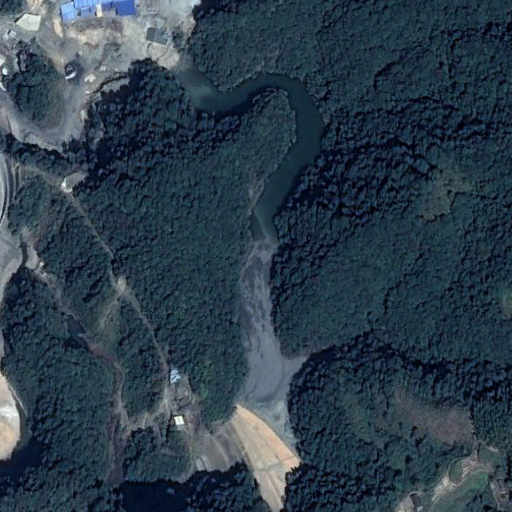tp: (173, 55, 326, 512)
